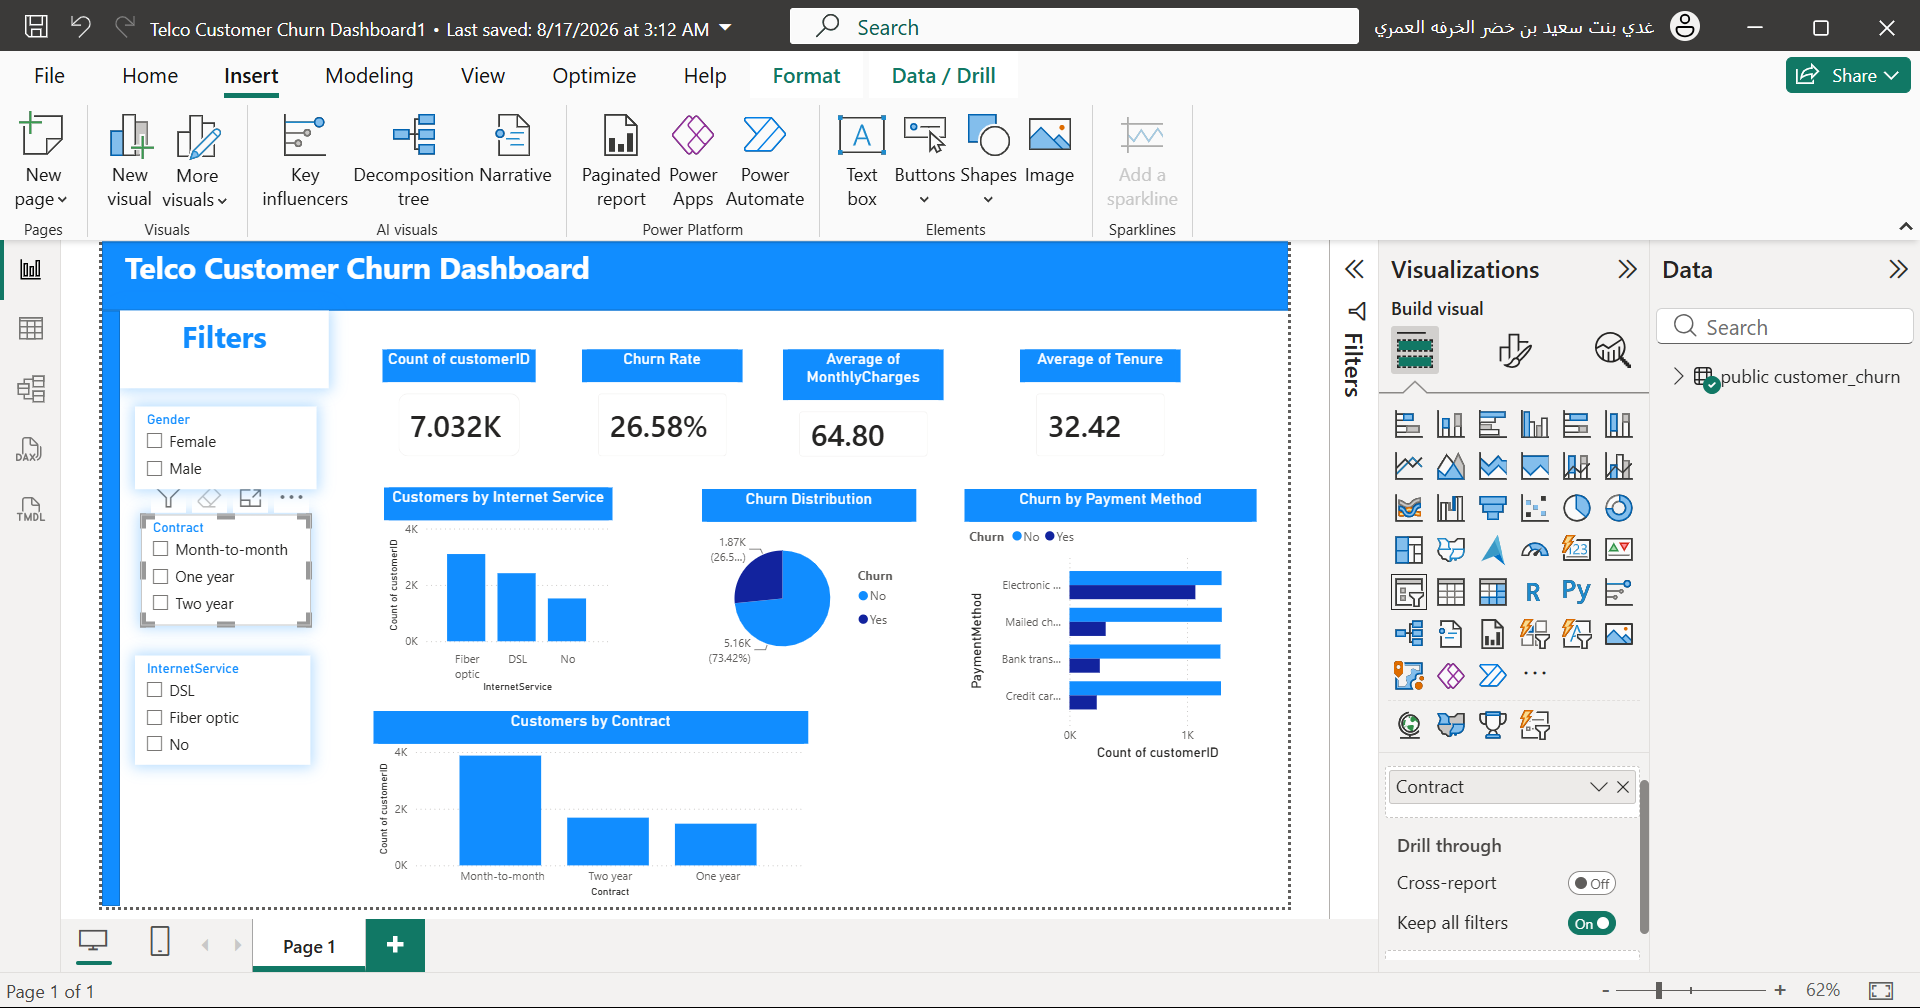

Layout of this report page (visuals, bound fields, positions):
{"tool":"powerbi","page":{"name":"Page 1","canvas":[1280,720],"ordinal":0},"visuals":[{"type":"textbox","box":[0,0,627.5,62.6],"z":0},{"type":"pieChart","title":"Churn Distribution","fields":{"Category":["public customer_churn.Churn"],"Y":["CountNonNull(public customer_churn.customerID)"]},"box":[353,508.4,231,206],"z":1},{"type":"clusteredColumnChart","title":"Customers by Internet Service","fields":{"Category":["public customer_churn.InternetService"],"Y":["CountNonNull(public customer_churn.customerID)"]},"box":[639.7,488.5,246.8,226],"z":2},{"type":"clusteredBarChart","title":"Churn by Payment Method","fields":{"Category":["public customer_churn.PaymentMethod"],"Series":["public customer_churn.Churn"],"Y":["CountNonNull(public customer_churn.customerID)"]},"box":[920,416,315.3,297.2],"z":3},{"type":"cardVisual","fields":{"Data":["Avg(public customer_churn.MonthlyCharges)"]},"box":[639.6,213.7,280,203],"z":4},{"type":"cardVisual","fields":{"Data":["Avg(public customer_churn.tenure)"]},"box":[956,252,280.1,187.8],"z":5},{"type":"cardVisual","fields":{"Data":["public customer_churn.Churn Rate"]},"box":[307.7,206.9,174,280],"z":6},{"type":"clusteredColumnChart","title":"Customers by Contract","fields":{"Category":["public customer_churn.Contract"],"Y":["CountNonNull(public customer_churn.customerID)"]},"box":[0,513.6,330.2,206.4],"z":7},{"type":"cardVisual","fields":{"Data":["CountNonNull(public customer_churn.customerID)"]},"box":[13.9,213.8,280,280],"z":8},{"type":"slicer","fields":{"Values":["public customer_churn.Contract"]},"box":[887.3,0,183,119.8],"z":10},{"type":"slicer","fields":{"Values":["public customer_churn.gender"]},"box":[691.4,0,195.9,89.1],"z":11},{"type":"slicer","fields":{"Values":["public customer_churn.InternetService"]},"box":[1069.1,1.7,196.4,118.2],"z":12}]}

Visuals, with their boxes on the page's 1280x720 design canvas (x1, y1, x2, y2). These are canvas units, not pixel positions in the 1920x1008 screenshot, which may show the page scaled, cropped or inside an application window:
textbox: 0/0/628/63
"Churn Distribution" pieChart: 353/508/584/714
"Customers by Internet Service" clusteredColumnChart: 640/488/886/714
"Churn by Payment Method" clusteredBarChart: 920/416/1235/713
cardVisual - Avg(public customer_churn.MonthlyCharges): 640/214/920/417
cardVisual - Avg(public customer_churn.tenure): 956/252/1236/440
cardVisual - public customer_churn.Churn Rate: 308/207/482/487
"Customers by Contract" clusteredColumnChart: 0/514/330/720
cardVisual - CountNonNull(public customer_churn.customerID): 14/214/294/494
slicer - public customer_churn.Contract: 887/0/1070/120
slicer - public customer_churn.gender: 691/0/887/89
slicer - public customer_churn.InternetService: 1069/2/1266/120
